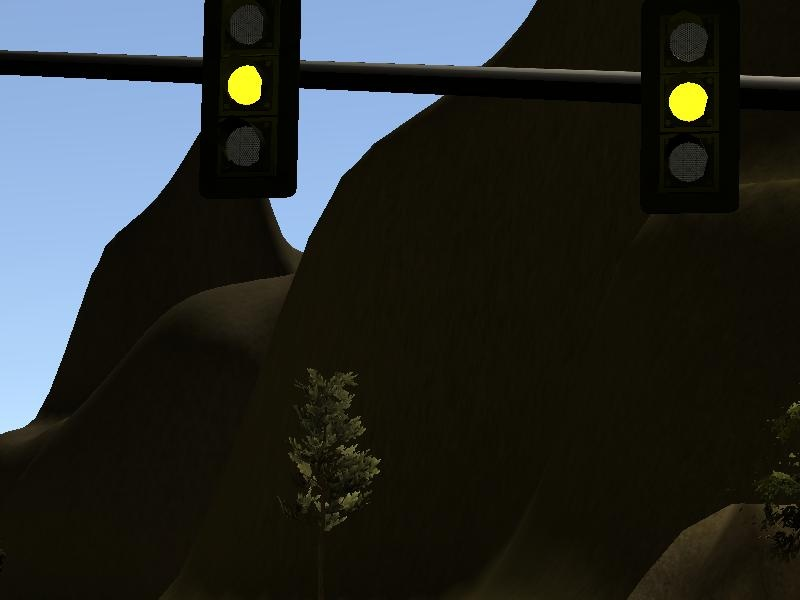yellow: (627, 2, 752, 224), (188, 1, 306, 209)
